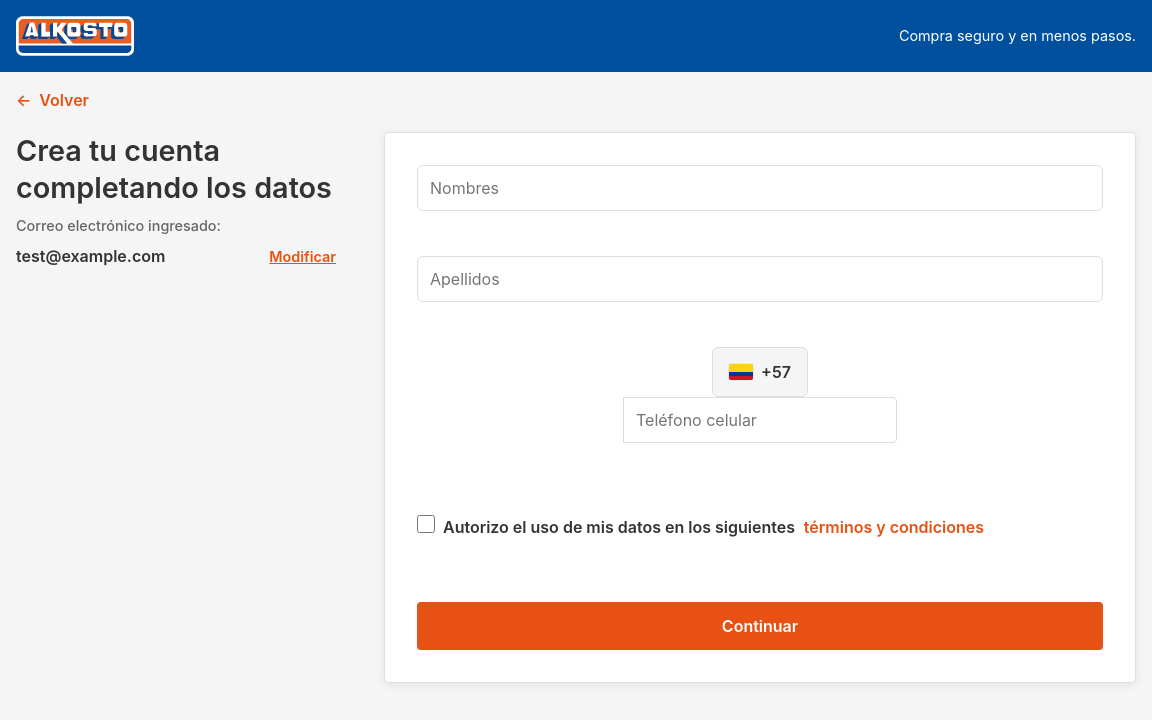
Test case: RF01 - REGISTRAR USUARIO - Pruebas Unitarias Completas › 6. Flujo Completo de Registro (Happy Path) › 6.2 Botón "Continuar" deshabilitado durante envío
The width and height of the screenshot is (1152, 720).
Type "Test" into the field with placeholder "Nombres" at (760, 188), box [417, 165, 1103, 211]
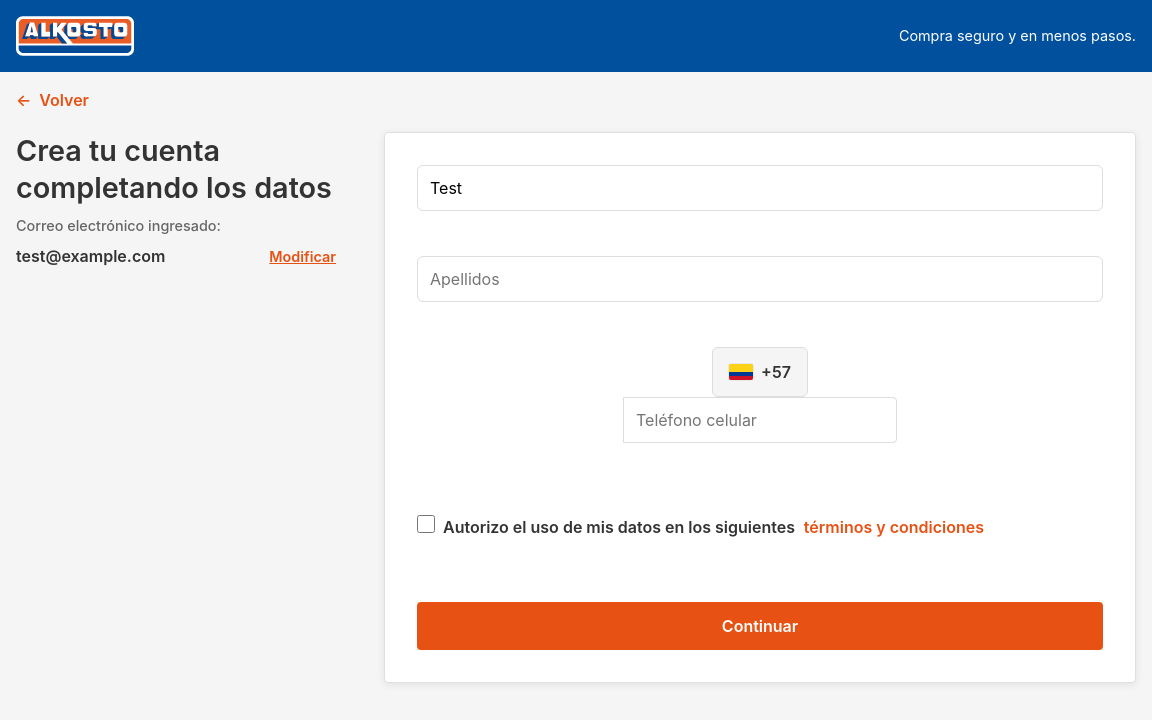
Type "User" into the field with placeholder "Apellidos" at (760, 279), box [417, 256, 1103, 302]
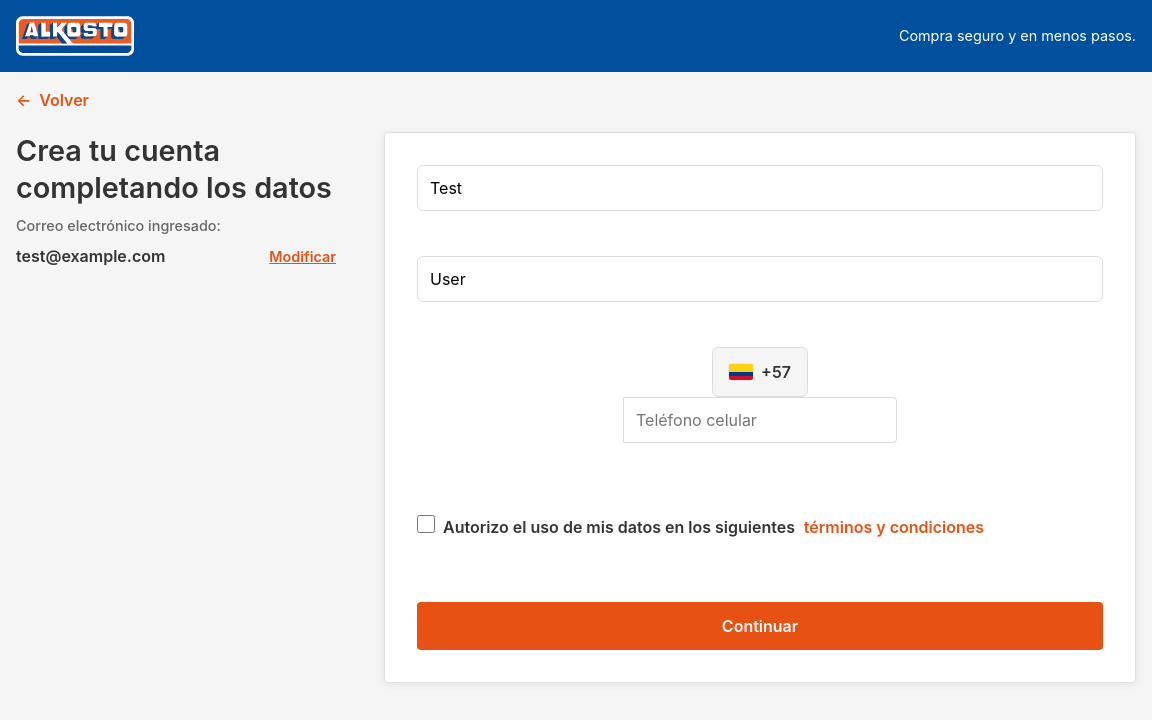
Type "3009876543" into the field with placeholder "Teléfono celular" at (760, 420), box [623, 397, 897, 443]
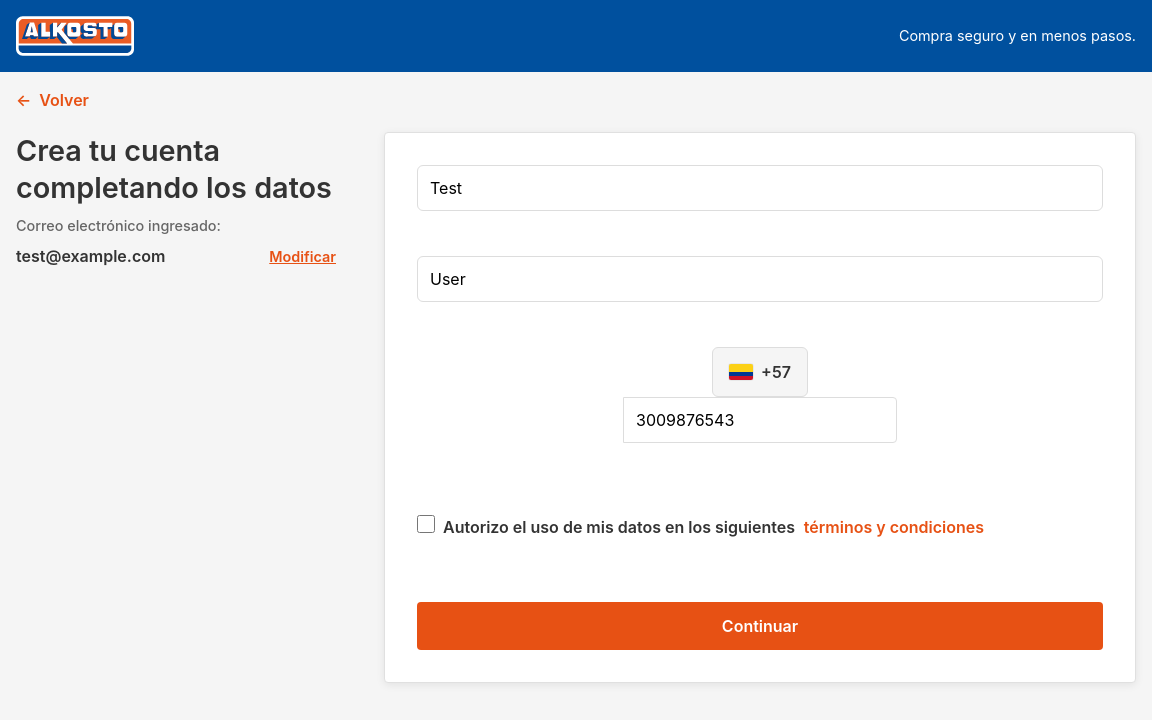
Click the checkbox at (426, 524), box [417, 515, 435, 533]
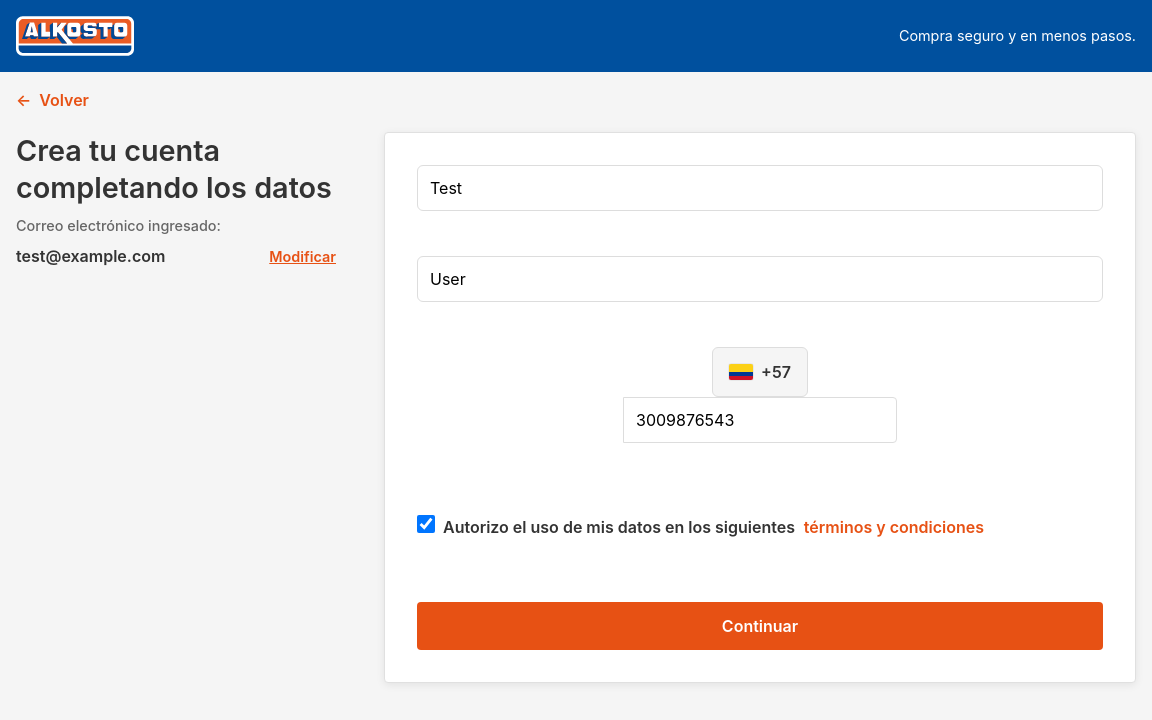
Click the button "Continuar" at (760, 626), box [417, 602, 1103, 650]
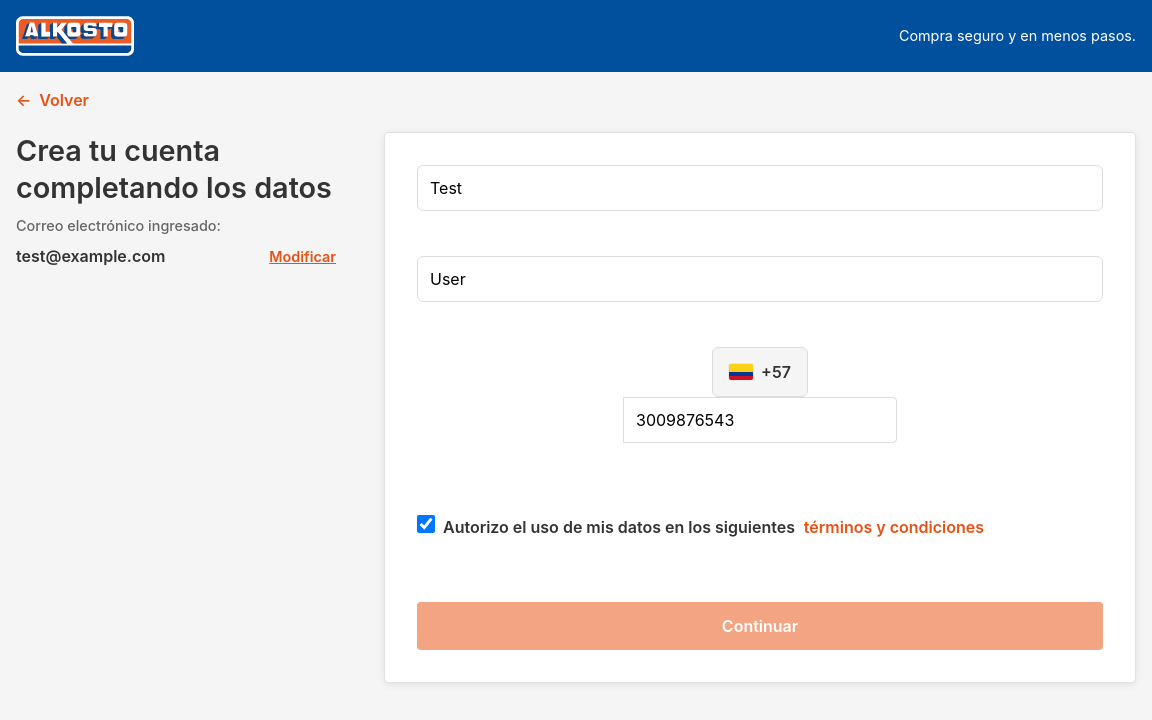
Check: the button "Continuar" is disabled, box [417, 602, 1103, 650]
